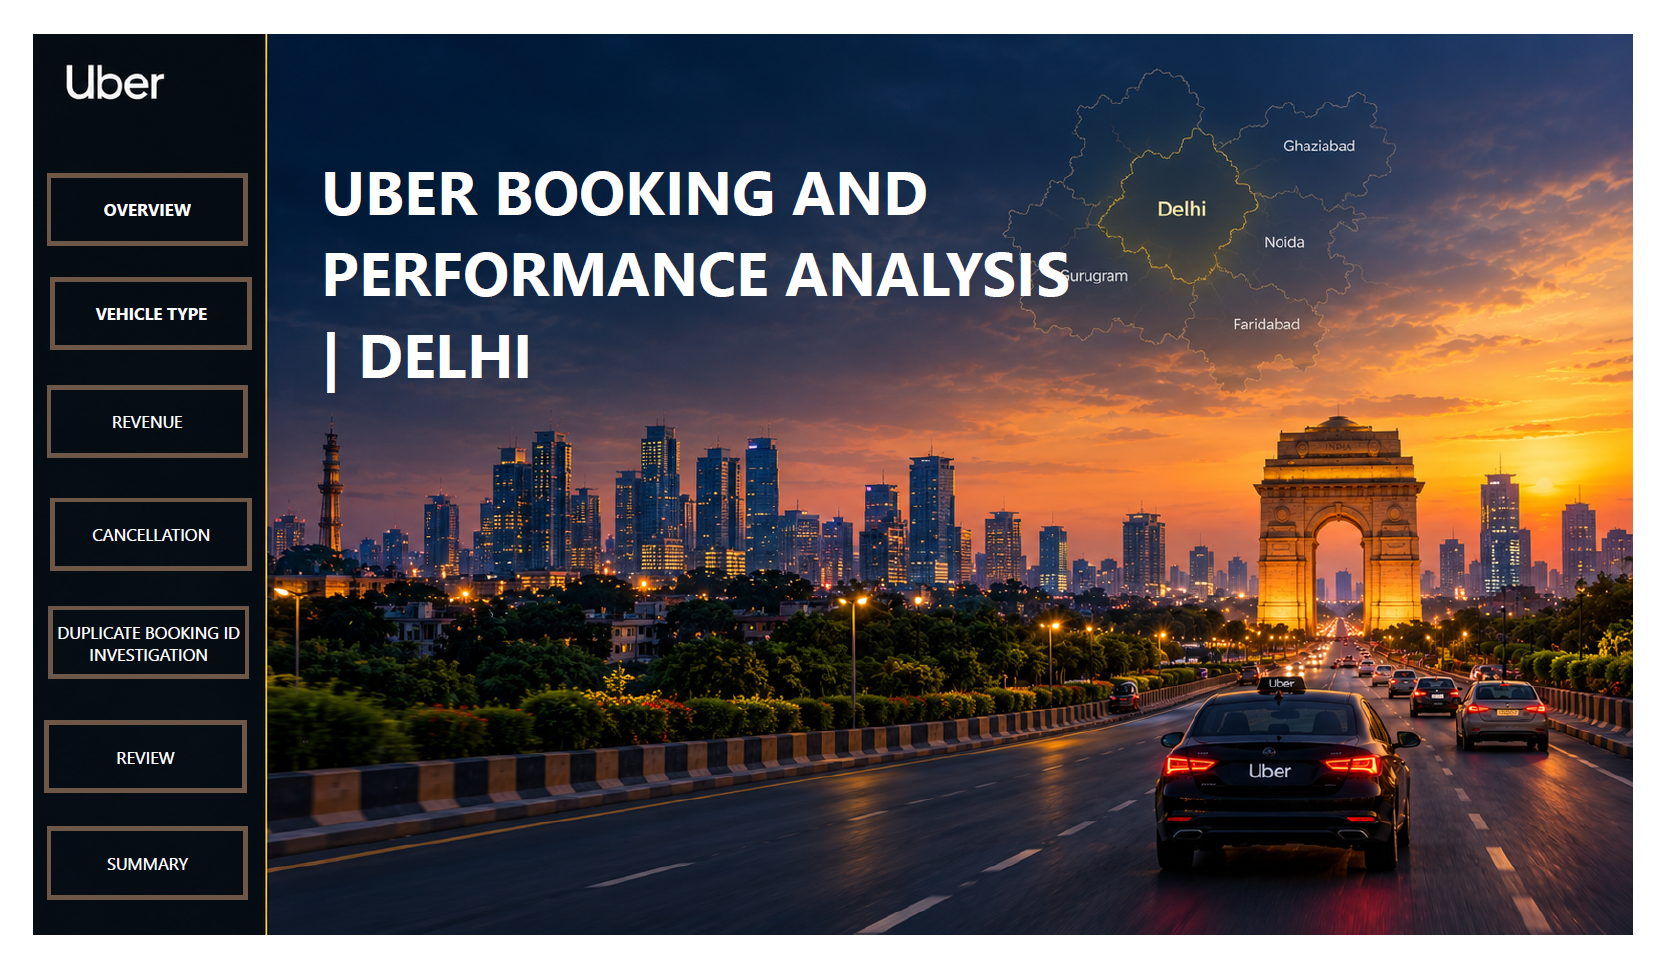

The dashboard page shown, as its layout file describes it:
{"tool":"powerbi","page":{"name":"Homepage","canvas":[1280,720],"ordinal":0},"visuals":[{"type":"image","box":[0,0,1280,719.3],"z":0},{"type":"actionButton","box":[20.9,281,158,57],"z":1000},{"type":"actionButton","box":[20.9,628.9,158.6,57],"z":2000},{"type":"actionButton","box":[23.7,370.1,158,57],"z":3000},{"type":"actionButton","box":[22.3,455,158,57],"z":4000},{"type":"actionButton","box":[19.5,545.4,158.6,57],"z":5000},{"type":"actionButton","box":[23.7,196.2,158,57],"z":6000},{"type":"actionButton","title":"Overview","box":[20.9,114.1,158.6,57],"z":7000},{"type":"textbox","box":[232.3,90.4,620.5,325.6],"z":8000}]}

Visuals, with their boxes in screenshot pixels (x1, y1, x2, y2), scaled from the page's 1280x720 canvas onto the 1674x961 screenshot:
image: (0,0,1673,960)
actionButton: (27,375,234,451)
actionButton: (27,839,235,915)
actionButton: (31,494,238,570)
actionButton: (29,607,236,683)
actionButton: (26,728,233,804)
actionButton: (31,262,238,338)
"Overview" actionButton: (27,152,235,228)
textbox: (304,121,1115,555)
